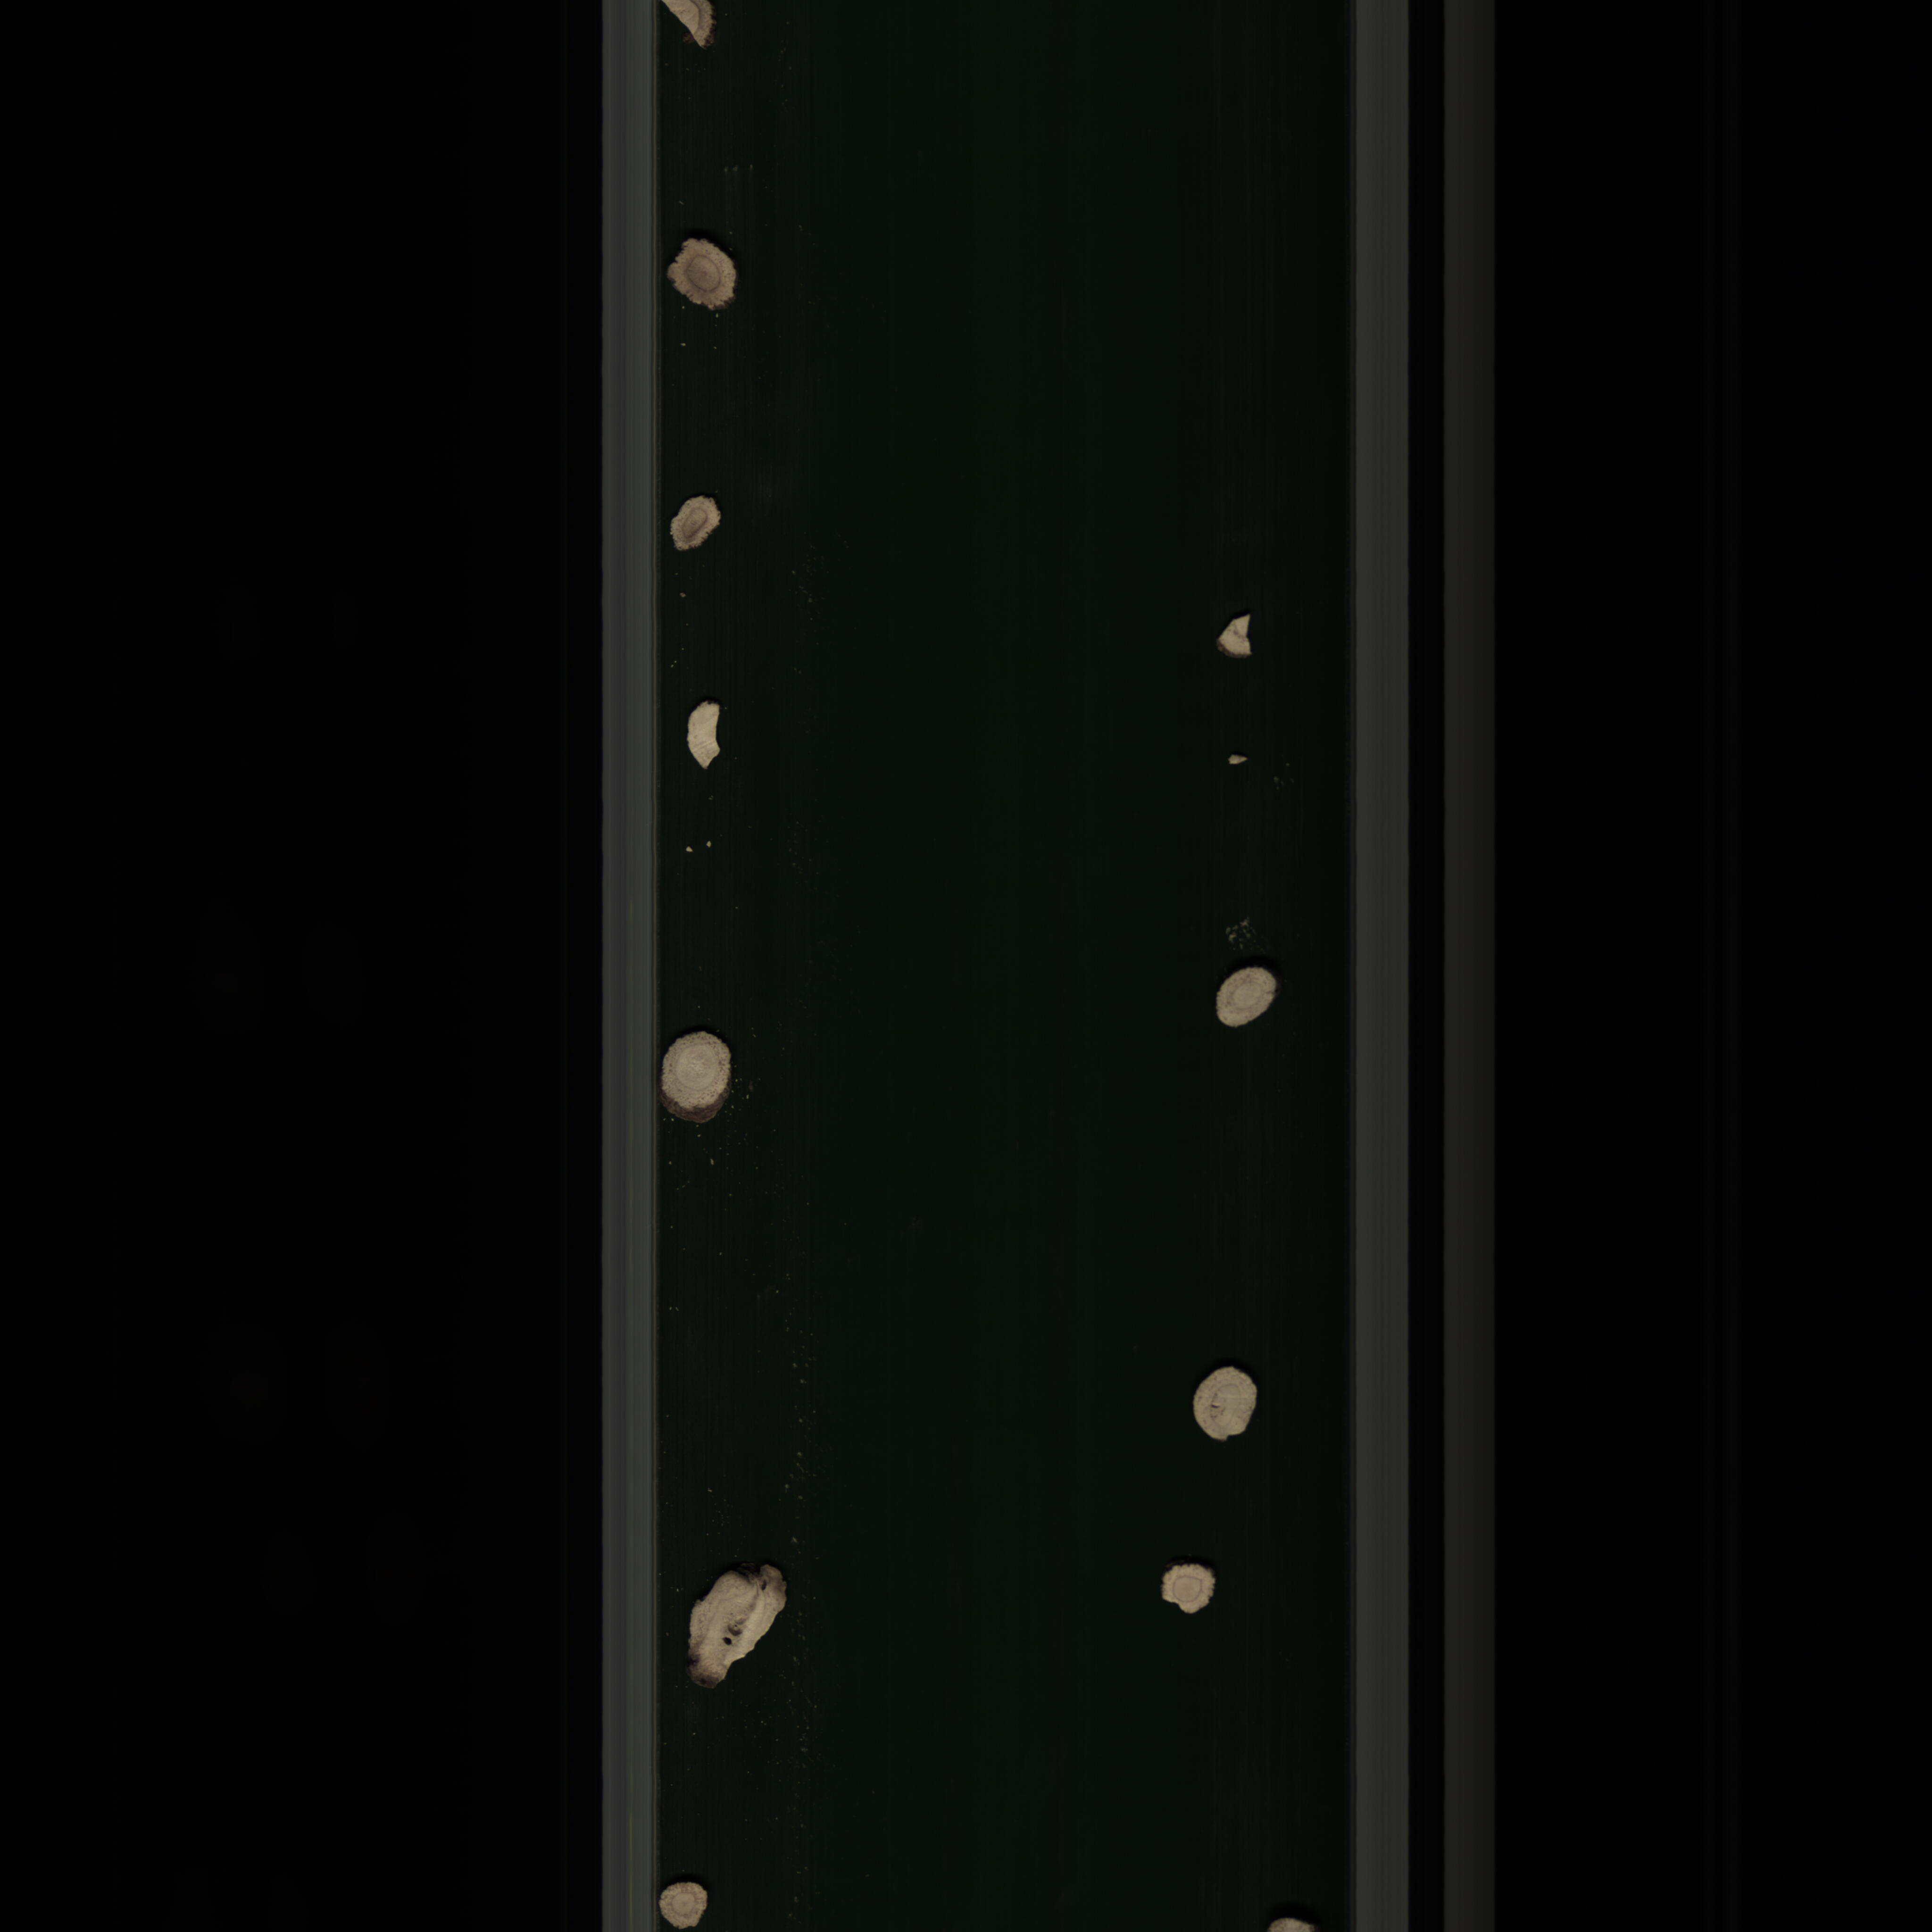debris: (681, 688, 734, 786), (1150, 1553, 1230, 1617), (1210, 605, 1267, 665)
moldy: (679, 1557, 809, 1711), (658, 230, 752, 322), (663, 492, 729, 552)
